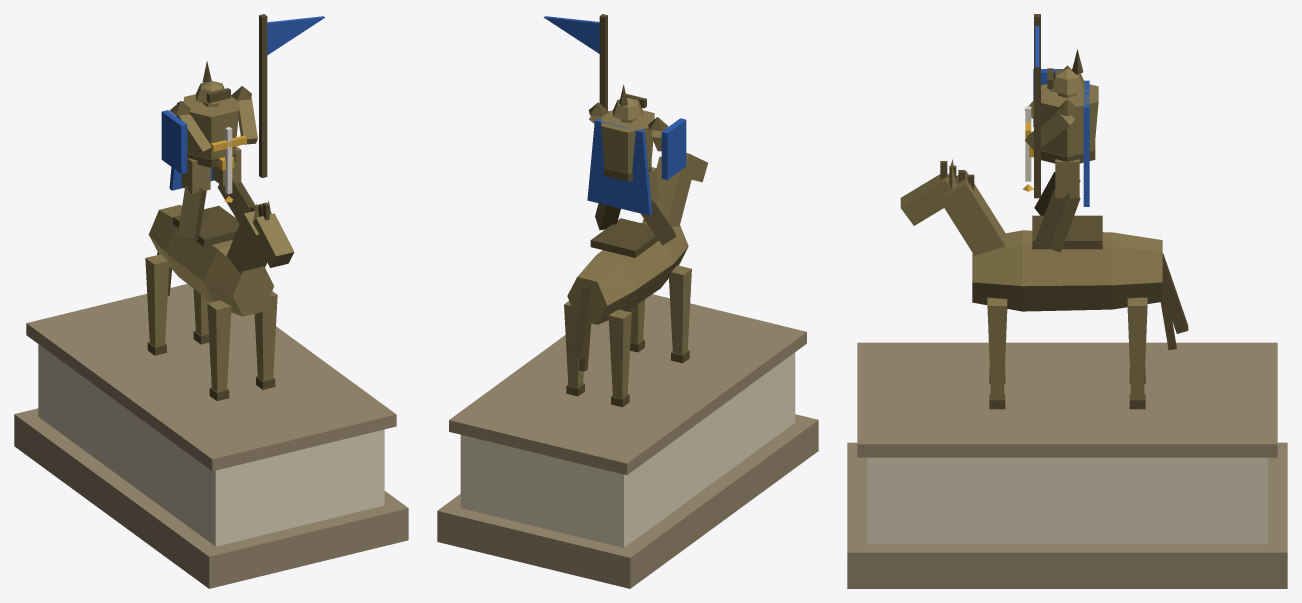
The model's file is Statue_Equestrian.fbx.
3 renders of one model, left to right at view 1: azimuth 30°, elevation 25°; view 2: azimuth 150°, elevation 25°; view 3: azimuth 270°, elevation 25°, orthographic. The views are drawn at different scales.
Parts seen in each view (by area): view 1: Statue_Equestrian; view 2: Statue_Equestrian; view 3: Statue_Equestrian.
Part boxes in pixels (x1=…): Statue_Equestrian: x1=14, y1=14, x2=408, y2=588; Statue_Equestrian: x1=437, y1=14, x2=818, y2=588; Statue_Equestrian: x1=847, y1=14, x2=1287, y2=588.
Bounding box in the file's own units: 2.6 × 5.95 × 4.4.
